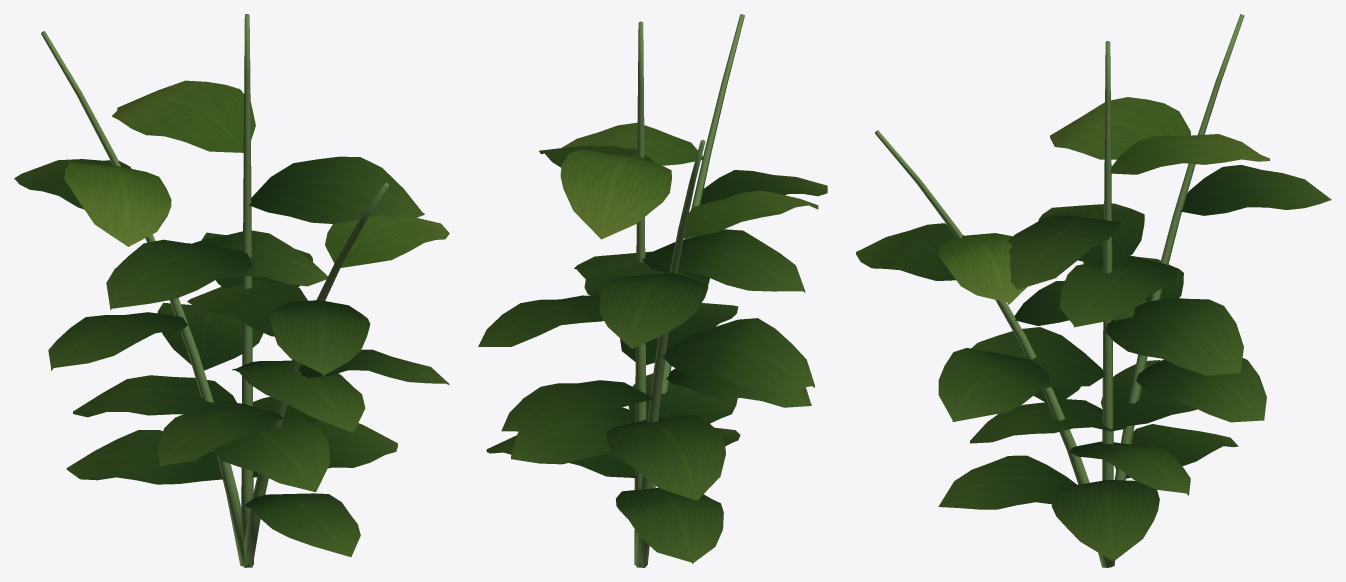
File: bellflower-06-lod.glb
The picture shows the model from 3 angles, left to right: view 1: azimuth 30°, elevation 25°; view 2: azimuth 150°, elevation 25°; view 3: azimuth 270°, elevation 25°; orthographic projection. The views are drawn at different scales.
Parts seen in each view (by area): view 1: bellflower_stage_06_leaf_veins.011, bellflower_stage_06_young_leaf.011, bellflower_stage_06_stem_fibres.011; view 2: bellflower_stage_06_leaf_veins.011, bellflower_stage_06_young_leaf.011, bellflower_stage_06_stem_fibres.011; view 3: bellflower_stage_06_leaf_veins.011, bellflower_stage_06_young_leaf.011, bellflower_stage_06_stem_fibres.011.
Part boxes in pixels (<box>): bellflower_stage_06_leaf_veins.011: <box>14,156,449,556</box>; bellflower_stage_06_young_leaf.011: <box>64,80,449,267</box>; bellflower_stage_06_stem_fibres.011: <box>41,14,388,567</box>; bellflower_stage_06_leaf_veins.011: <box>478,146,827,563</box>; bellflower_stage_06_young_leaf.011: <box>560,122,818,239</box>; bellflower_stage_06_stem_fibres.011: <box>634,14,744,567</box>; bellflower_stage_06_leaf_veins.011: <box>856,165,1331,561</box>; bellflower_stage_06_young_leaf.011: <box>939,97,1269,304</box>; bellflower_stage_06_stem_fibres.011: <box>875,14,1244,567</box>.
Size of the model in its own units: 0.2255 by 0.3491 by 0.287.
Materials: 3 (2 with a texture image).
